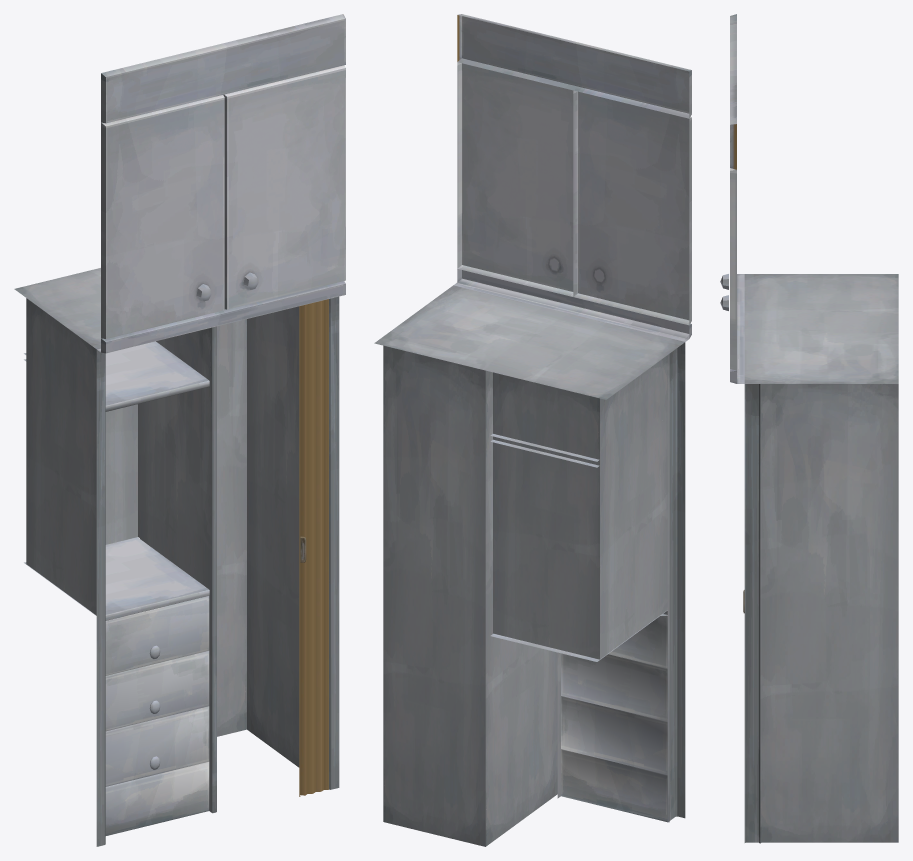
File: Ropero_H1.obj
3 renders of one model, left to right at view 1: azimuth 30°, elevation 25°; view 2: azimuth 150°, elevation 25°; view 3: azimuth 270°, elevation 25°, orthographic. The views are drawn at different scales.
Parts seen in each view (by area): view 1: Ropero_H1; view 2: Ropero_H1; view 3: Ropero_H1.
Part boxes in pixels (x1,y1,x2,y2): Ropero_H1: (14, 14, 345, 846); Ropero_H1: (374, 14, 691, 846); Ropero_H1: (720, 14, 898, 843).
Size of the model in its own units: 0.6729 by 2.06 by 0.4611.
Materials: 1 (1 with a texture image).
